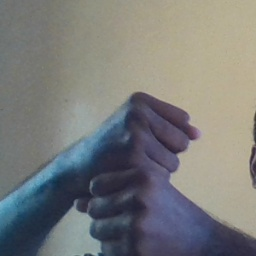G: (77, 88, 203, 256)
